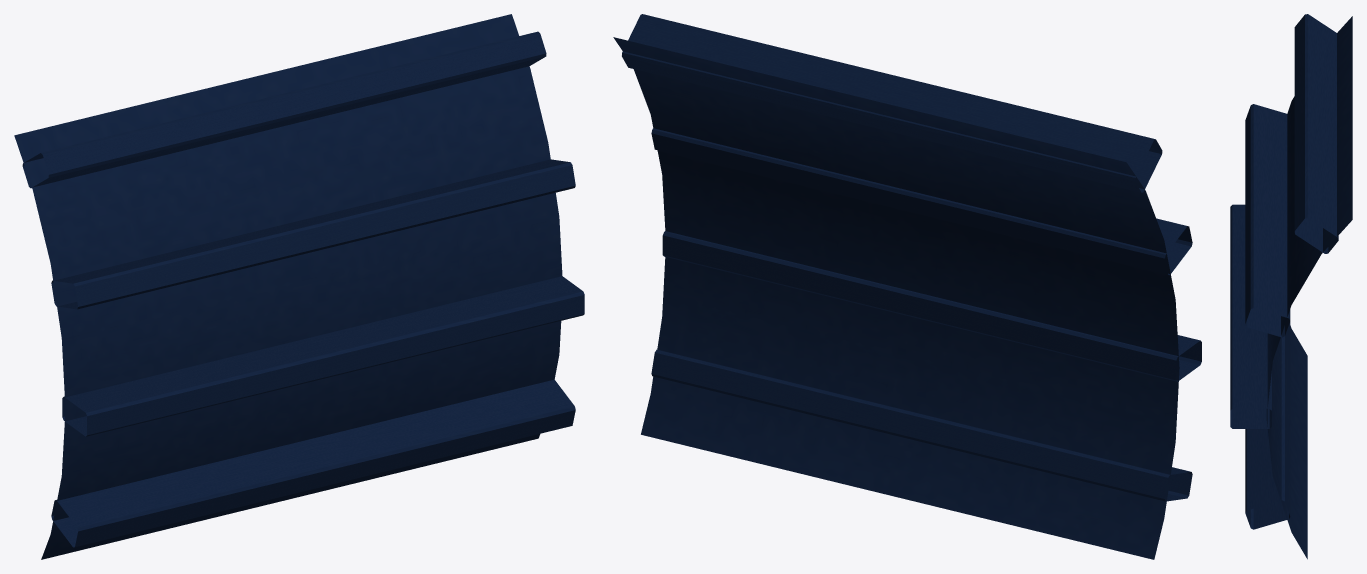
The model's file is cell_34.obj.
3 views of the same model, side by side, from view 1: azimuth 30°, elevation 25°; view 2: azimuth 150°, elevation 25°; view 3: azimuth 270°, elevation 25° (orthographic). The views are drawn at different scales.
Parts seen in each view (by area): view 1: cell_34; view 2: cell_34; view 3: cell_34.
Boxes of the visible parts, bbox=[...] form: cell_34: bbox=[14, 14, 584, 559]; cell_34: bbox=[613, 14, 1201, 559]; cell_34: bbox=[1230, 14, 1352, 559].
Bounding box in the file's own units: 1 × 0.7815 × 0.2538.
